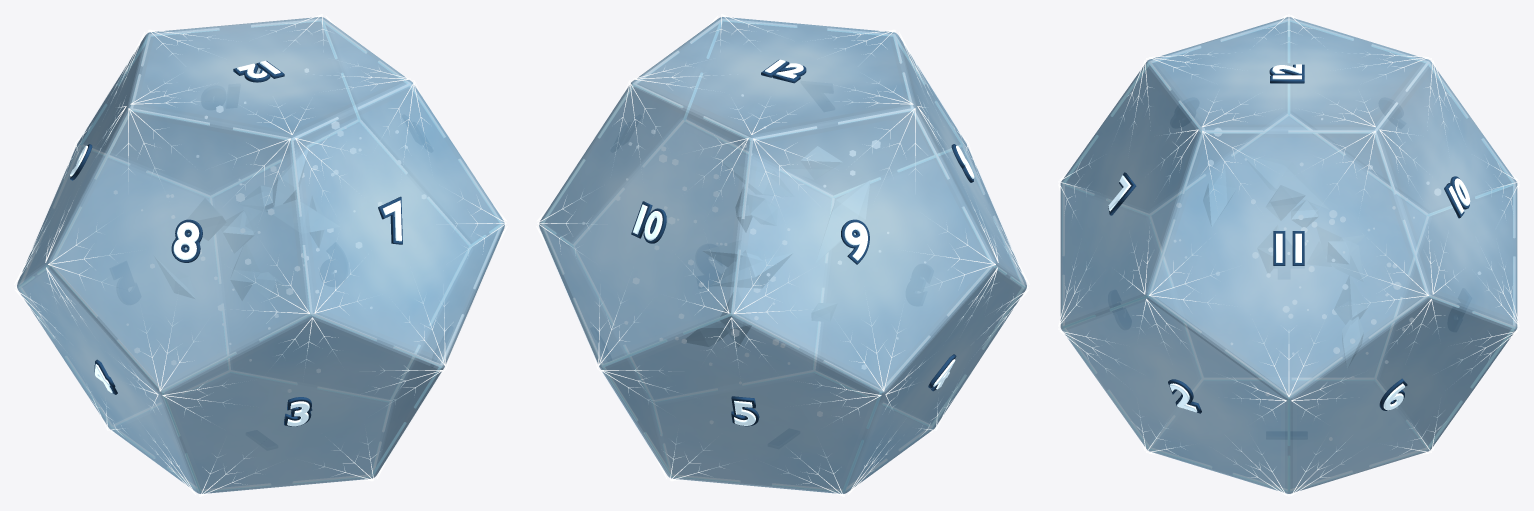
The model's file is D12_十二面骰_月白冰晶_baked.glb.
The picture shows the model from 3 angles, left to right: view 1: azimuth 30°, elevation 25°; view 2: azimuth 150°, elevation 25°; view 3: azimuth 270°, elevation 25°; orthographic projection. The views are drawn at different scales.
Visible parts, largest first — view 1: D12_Body_12_Faces, D12_Continuous_Frost_Gradient_v3, D12_Moonwhite_Broken_Ice_Seam, D12_Floating_Ice_Shards, D12_Every_Face_Vertex_Frost_v6, D12_Floating_Frost_Motes, D12_Face_08_8; view 2: D12_Body_12_Faces, D12_Continuous_Frost_Gradient_v3, D12_Moonwhite_Broken_Ice_Seam, D12_Floating_Ice_Shards, D12_Every_Face_Vertex_Frost_v6, D12_Floating_Frost_Motes, D12_Face_10_10_Dark_Ice_Back_v7, D12_Face_10_10, D12_Face_09_9; view 3: D12_Body_12_Faces, D12_Continuous_Frost_Gradient_v3, D12_Moonwhite_Broken_Ice_Seam, D12_Floating_Ice_Shards, D12_Every_Face_Vertex_Frost_v6, D12_Floating_Frost_Motes, D12_Face_11_11_Dark_Ice_Back_v7.
Boxes of the visible parts, bbox=[...] form: D12_Body_12_Faces: bbox=[17, 17, 504, 493]; D12_Continuous_Frost_Gradient_v3: bbox=[42, 31, 464, 472]; D12_Moonwhite_Broken_Ice_Seam: bbox=[19, 19, 502, 491]; D12_Floating_Ice_Shards: bbox=[154, 146, 339, 300]; D12_Every_Face_Vertex_Frost_v6: bbox=[14, 14, 507, 496]; D12_Floating_Frost_Motes: bbox=[114, 68, 425, 392]; D12_Face_08_8: bbox=[173, 222, 199, 259]; D12_Body_12_Faces: bbox=[539, 17, 1026, 493]; D12_Continuous_Frost_Gradient_v3: bbox=[576, 31, 1001, 474]; D12_Moonwhite_Broken_Ice_Seam: bbox=[541, 19, 1024, 491]; D12_Floating_Ice_Shards: bbox=[686, 146, 869, 346]; D12_Every_Face_Vertex_Frost_v6: bbox=[536, 14, 1029, 496]; D12_Floating_Frost_Motes: bbox=[583, 94, 925, 423]; D12_Face_10_10_Dark_Ice_Back_v7: bbox=[631, 201, 666, 243]; D12_Face_10_10: bbox=[633, 204, 662, 240]; D12_Face_09_9: bbox=[844, 222, 867, 260]; D12_Body_12_Faces: bbox=[1060, 17, 1517, 493]; D12_Continuous_Frost_Gradient_v3: bbox=[1072, 37, 1506, 462]; D12_Moonwhite_Broken_Ice_Seam: bbox=[1062, 19, 1515, 491]; D12_Floating_Ice_Shards: bbox=[1203, 154, 1367, 368]; D12_Every_Face_Vertex_Frost_v6: bbox=[1058, 14, 1519, 496]; D12_Floating_Frost_Motes: bbox=[1174, 118, 1480, 440]; D12_Face_11_11_Dark_Ice_Back_v7: bbox=[1273, 231, 1304, 265].
Bounding box in the file's own units: 4.24 × 3.54 × 4.03.
Materials: 11 (2 with a texture image).
